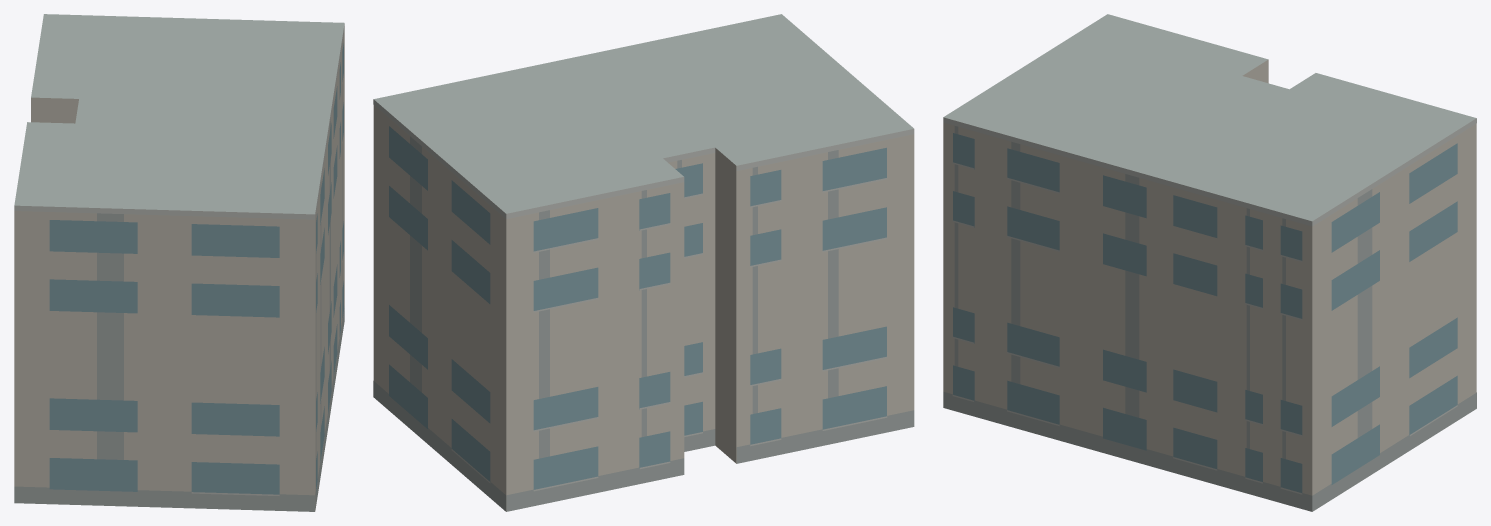
Rendered from survey-upis-32605924.glb.
3 renders of one model, left to right at view 1: azimuth 30°, elevation 25°; view 2: azimuth 150°, elevation 25°; view 3: azimuth 270°, elevation 25°, orthographic. The views are drawn at different scales.
Parts seen in each view (by area): view 1: survey-upis-32605924.tmp; view 2: survey-upis-32605924.tmp; view 3: survey-upis-32605924.tmp.
Part boxes in pixels (x1,y1,x2,y2): survey-upis-32605924.tmp: [14, 14, 344, 511]; survey-upis-32605924.tmp: [373, 14, 914, 511]; survey-upis-32605924.tmp: [943, 14, 1476, 511].
Size of the model in its own units: 20.82 by 13.6 by 22.64.
